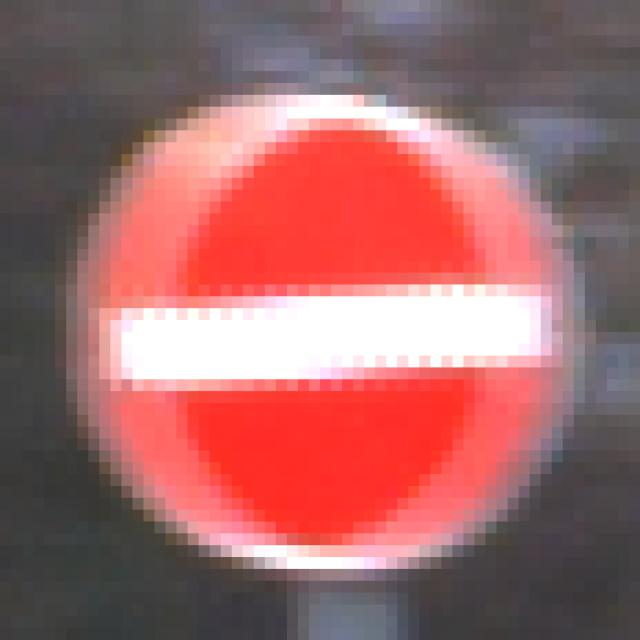No Entry: (67, 72, 586, 582)
